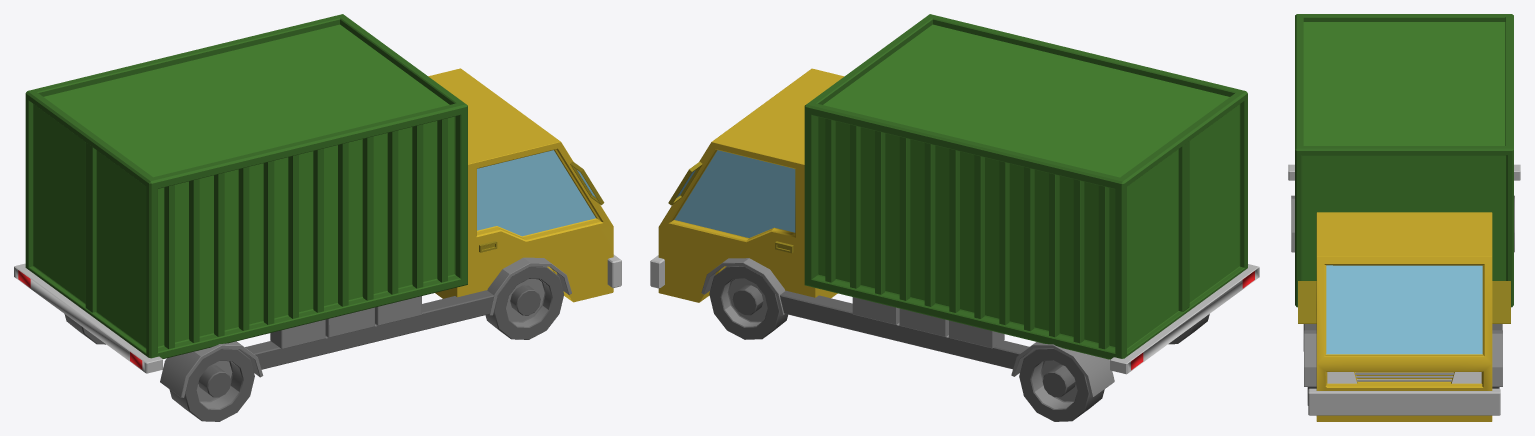
Rendered from lorry 1.fbx.
3 views of the same model, side by side, from view 1: azimuth 30°, elevation 25°; view 2: azimuth 150°, elevation 25°; view 3: azimuth 270°, elevation 25° (orthographic). The views are drawn at different scales.
Visible parts, largest first — view 1: car.018; view 2: car.018; view 3: car.018.
Boxes of the visible parts, <box> form: car.018: <box>14,14,621,421</box>; car.018: <box>650,14,1259,421</box>; car.018: <box>1288,14,1520,421</box>.
Bounding box in the file's own units: 28.41 × 14.34 × 13.42.
